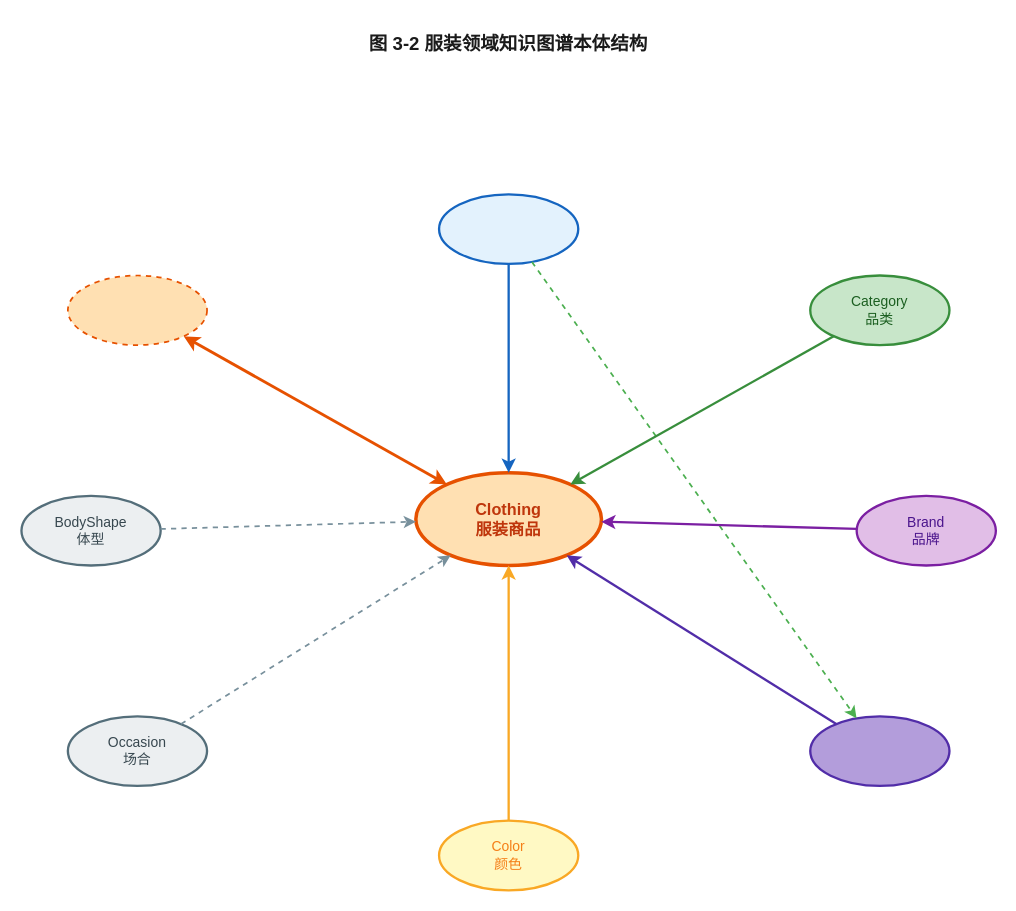
Image size: 1016x911. Some labels were removed from this diagram. The centre of each missing label's shape, as x and y in pixels:
"Clothing 搭配单品" belongs at [136,309].
"Style 风格" belongs at [879,750].
"User 用户" belongs at [508,228].
